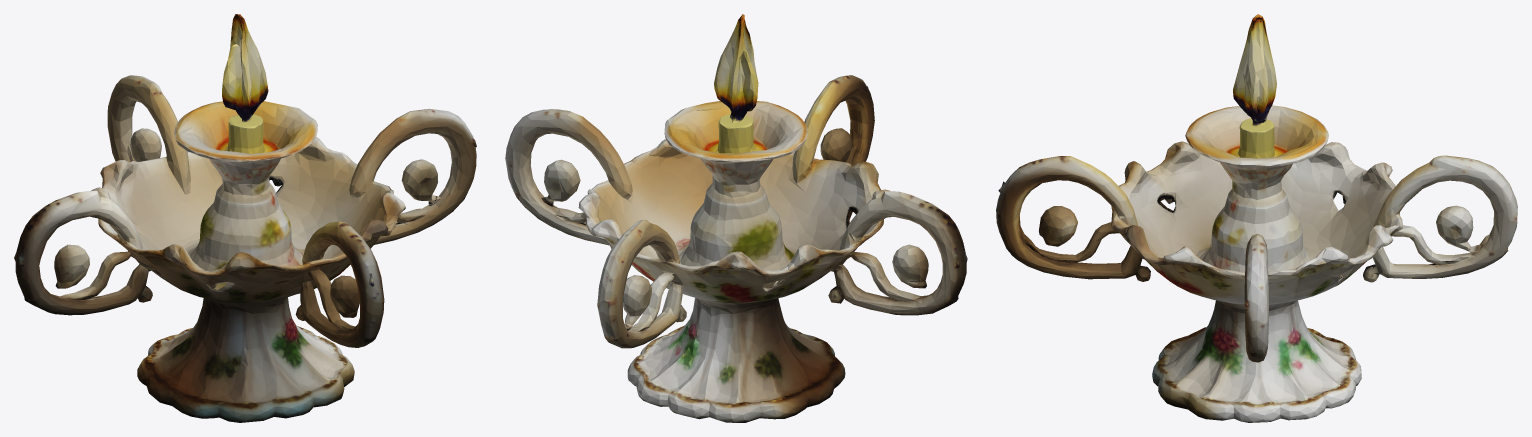
Rendered from porcelain-candle-holder-vintage.jpeg.glb.
3 views of the same model, side by side, from view 1: azimuth 30°, elevation 25°; view 2: azimuth 150°, elevation 25°; view 3: azimuth 270°, elevation 25° (orthographic).
Visible parts, largest first — view 1: world; view 2: world; view 3: world.
Boxes of the visible parts, x1,y1,x2,y2 form: world: (14, 14, 476, 422); world: (505, 14, 967, 422); world: (996, 14, 1517, 422).
Size of the model in its own units: 1 by 0.7671 by 1.
1 material, 1 textured.
